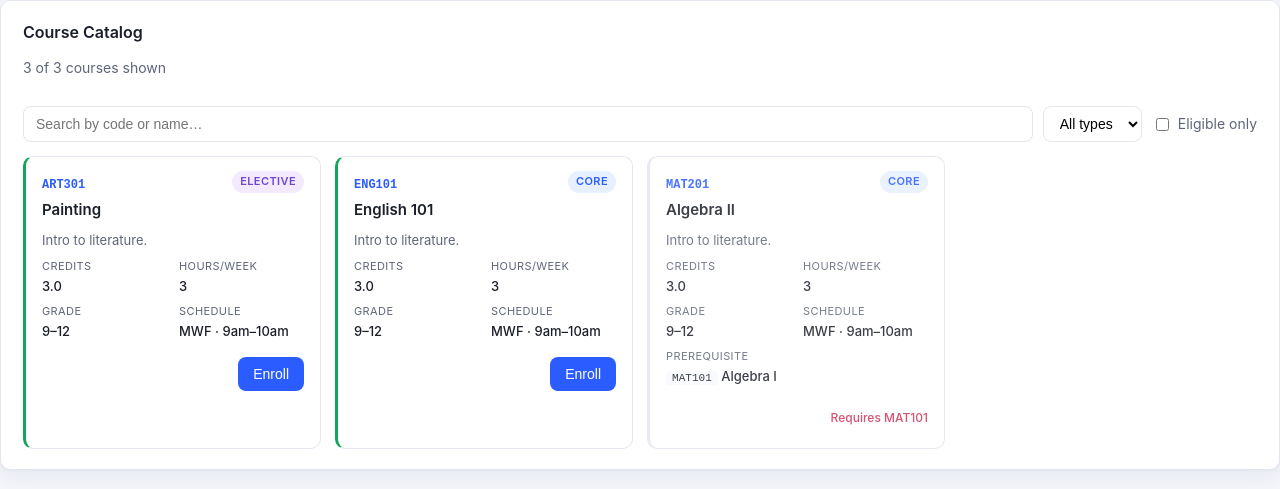
CourseBrowser › filters by search query (matches course code or name, case-insensitive)
Expected: the text "ENG101" is shown, [354,178,397,192]
Type "algebra" into the search field with placeholder "Search by code or name…" at {"x": 528, "y": 124}, box [23,106,1033,142]
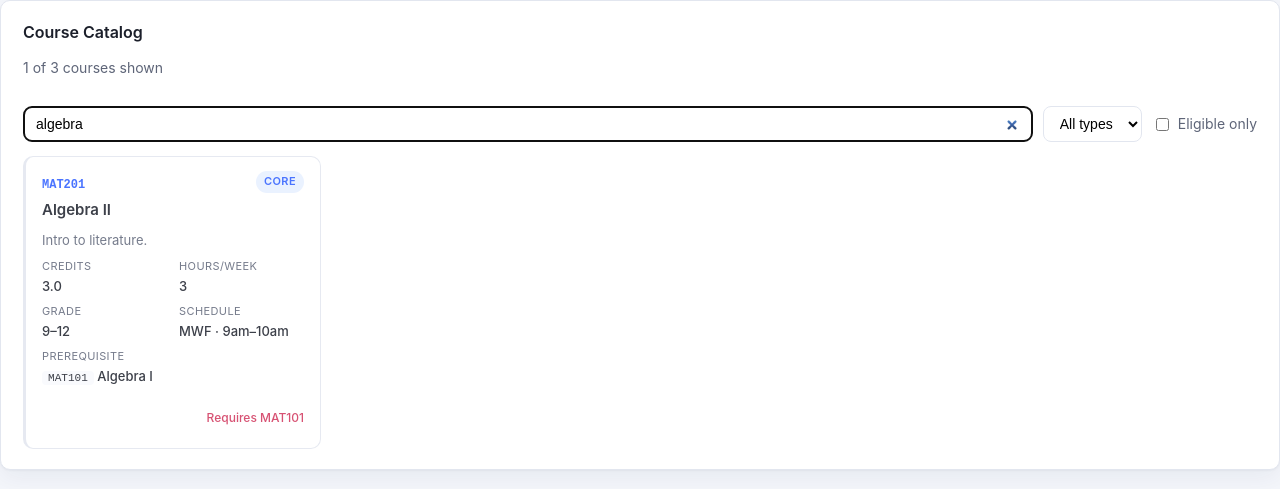
Expected: the text "MAT201" is shown, [42,178,85,192]
Result: the text "ENG101" is gone
Result: the text "ART301" is gone
